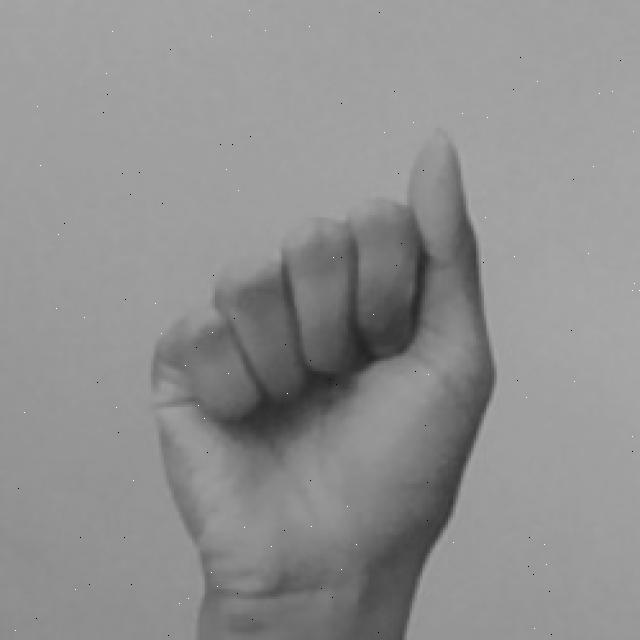A: (138, 123, 507, 640)
